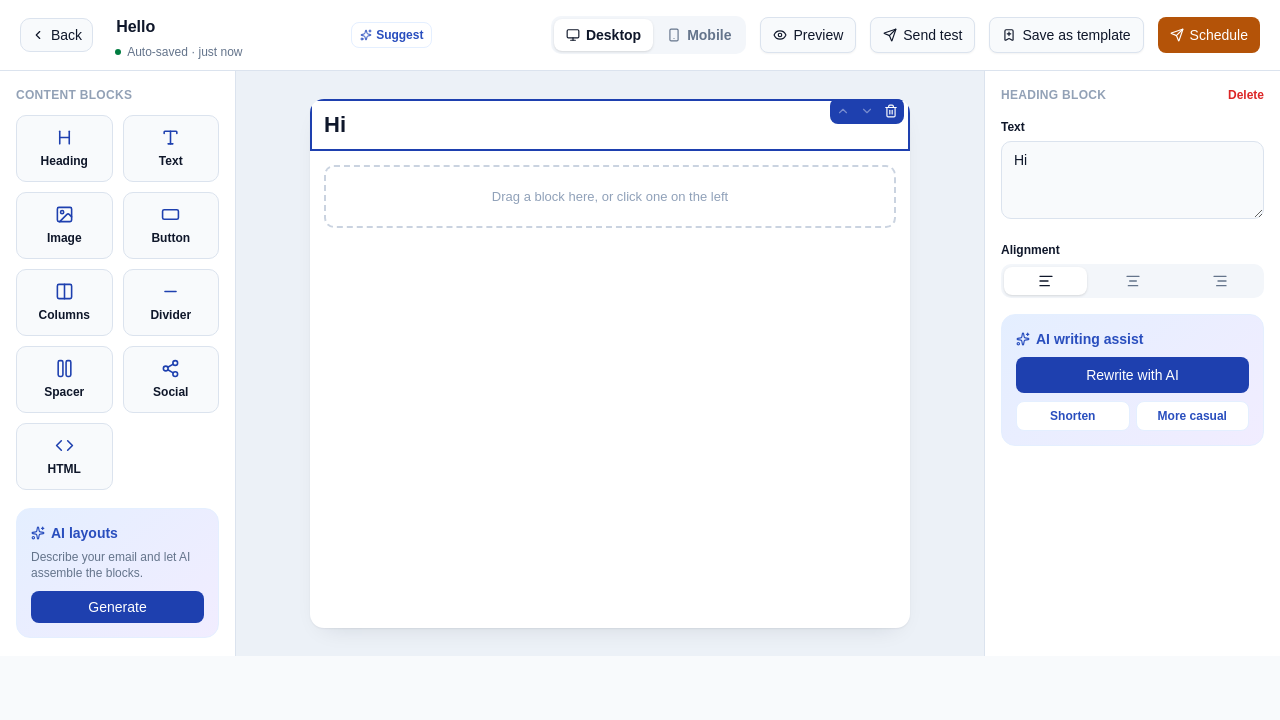
Scenario: clicking "Save as template" opens a dialog with a name input and category select
The width and height of the screenshot is (1280, 720).
What coordinates should you click on to do the following:
click the button "Save as template"
I would click on:
 (1066, 35)
Its box is [989,17,1144,53].
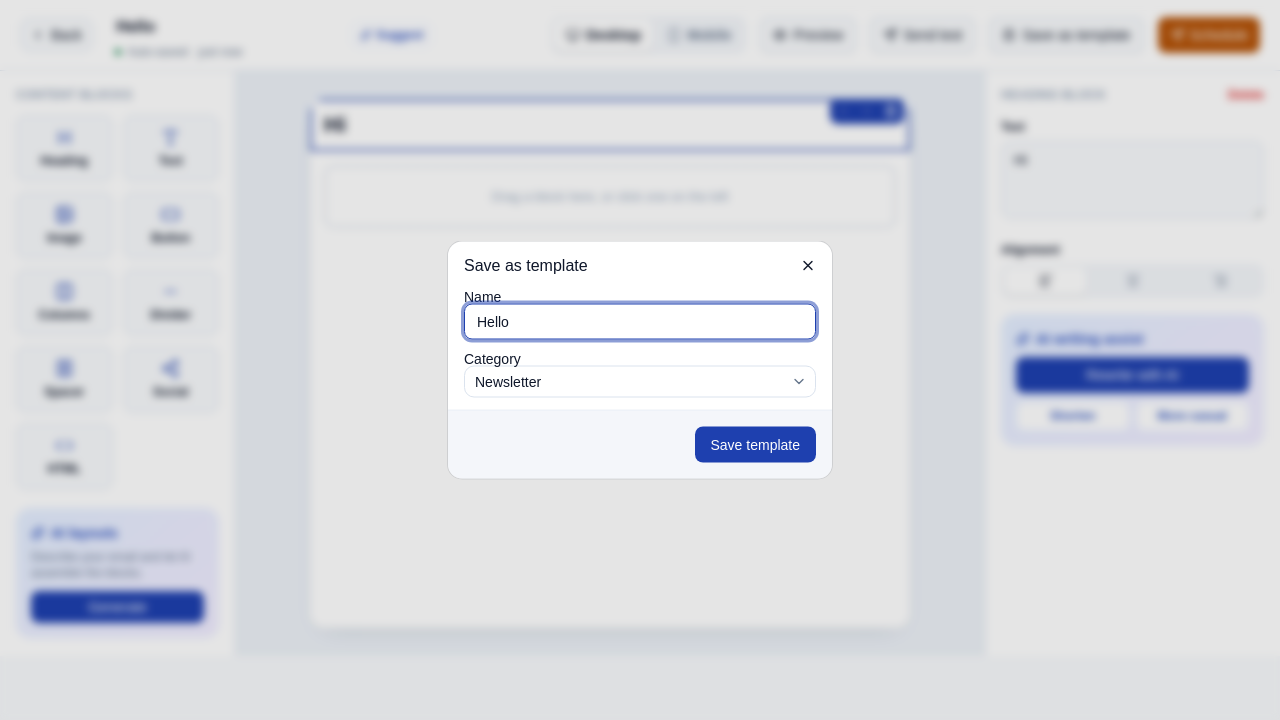
Expected: the dialog is shown, [448,242,832,478]
Expected: the field labelled "Name" is shown, [464,304,816,340]
Expected: the dropdown is shown, [464,366,816,398]
